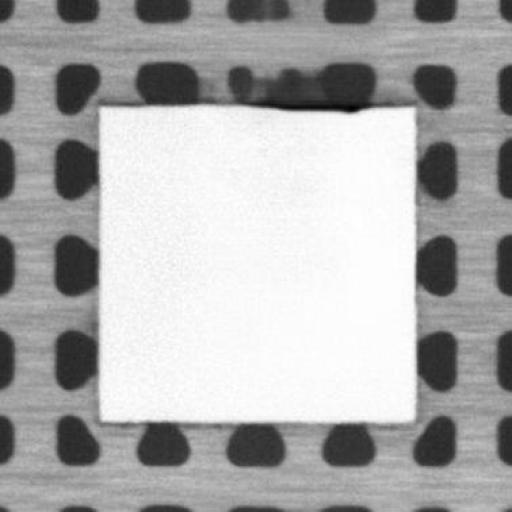DIE_BROKEN: (246, 96, 370, 112)
